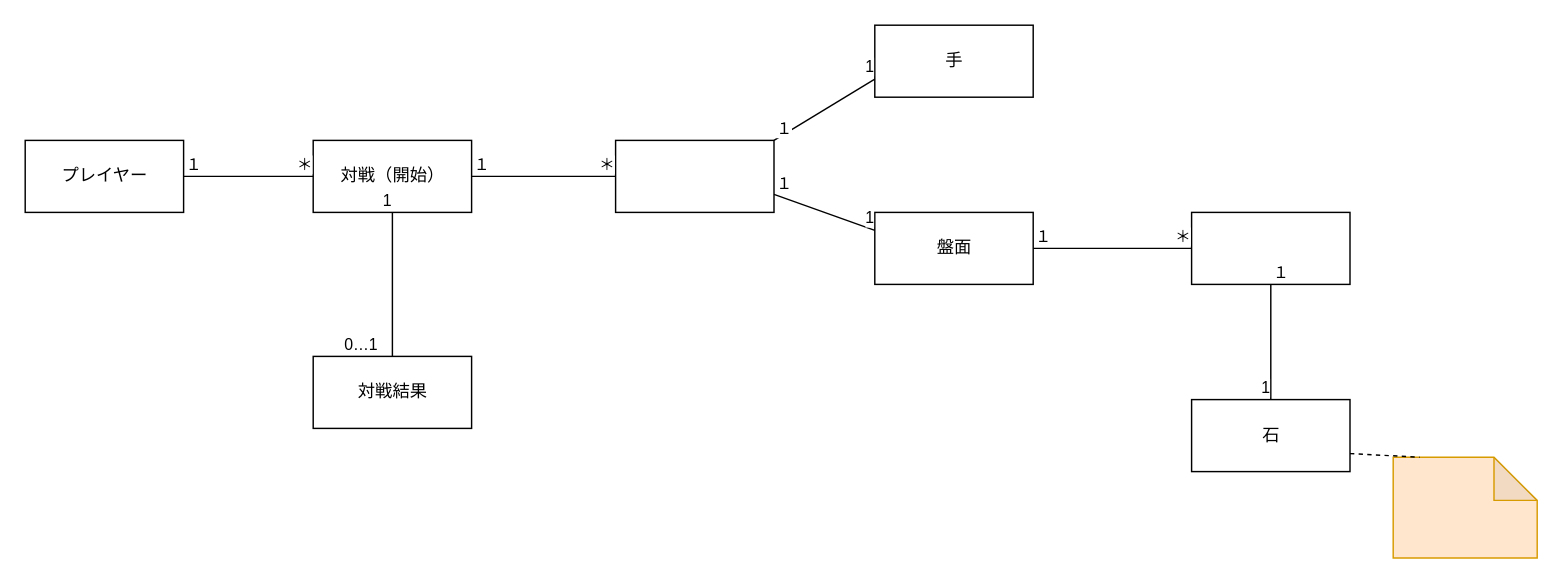
Image size: 1562x583. Some labels were removed from this diagram. Here are the shapes that lost their labels. From the top down, the centre of each, then its label:
At (x=694, y=175): "ターン".
At (x=1270, y=247): "マス目".
At (x=1464, y=507): "石の種類は ・空 ・黒 ・白".
